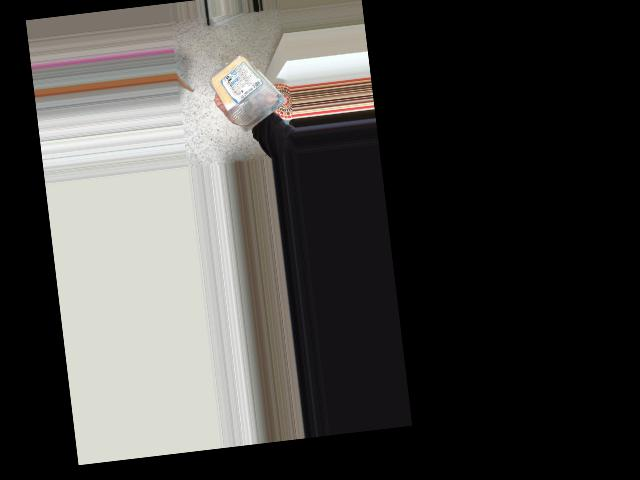cheese: (216, 48, 282, 124)
